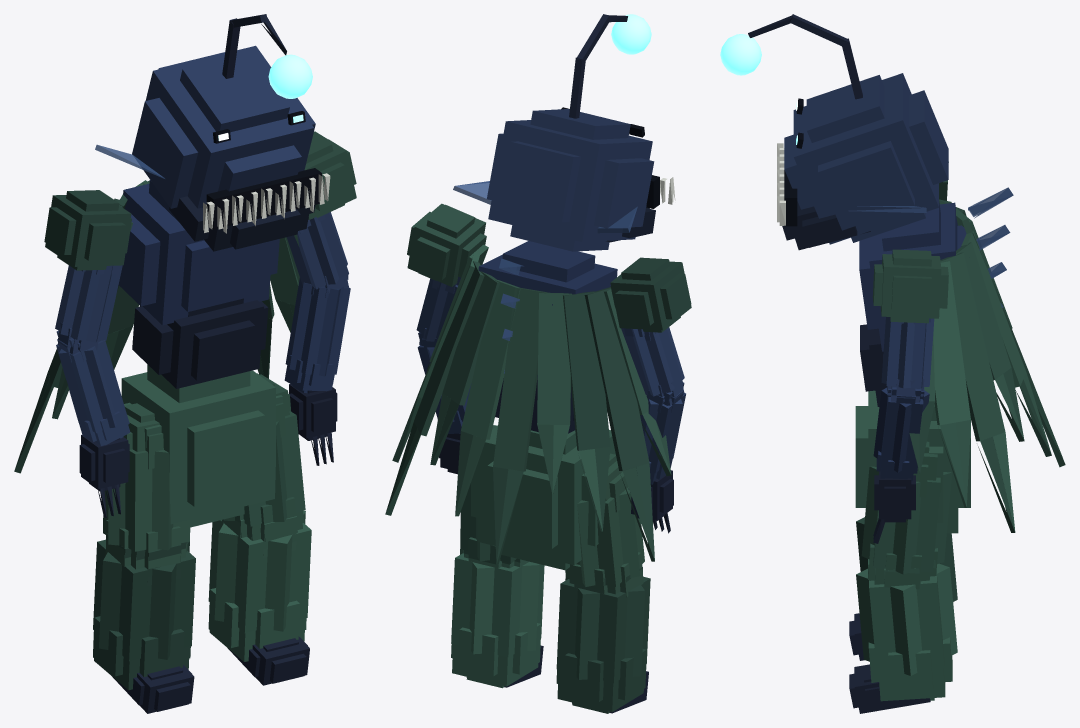
3 views of the same model, side by side, from view 1: azimuth 30°, elevation 25°; view 2: azimuth 150°, elevation 25°; view 3: azimuth 270°, elevation 25° (orthographic). The views are drawn at different scales.
Parts seen in each view (by area): view 1: DeepAngler; view 2: DeepAngler; view 3: DeepAngler.
Boxes of the visible parts, <box> form: DeepAngler: <box>14,14,356,713</box>; DeepAngler: <box>385,14,691,713</box>; DeepAngler: <box>720,14,1065,713</box>.
Bounding box in the file's own units: 0.6909 × 1.57 × 0.7412.
